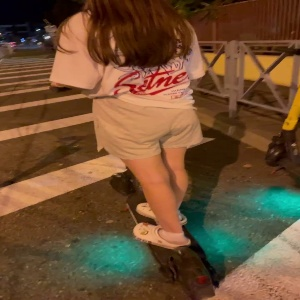human on a scooter: (40, 1, 218, 298)
